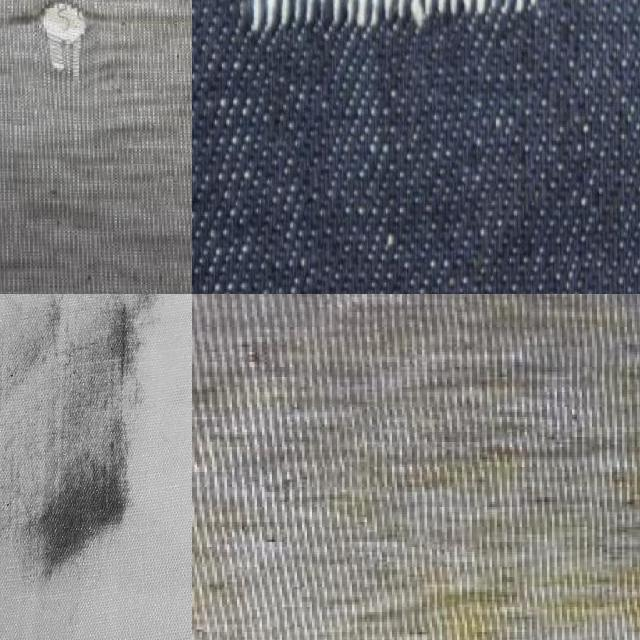Hole: (0, 294, 173, 594)
Thread_other: (202, 0, 564, 92)
